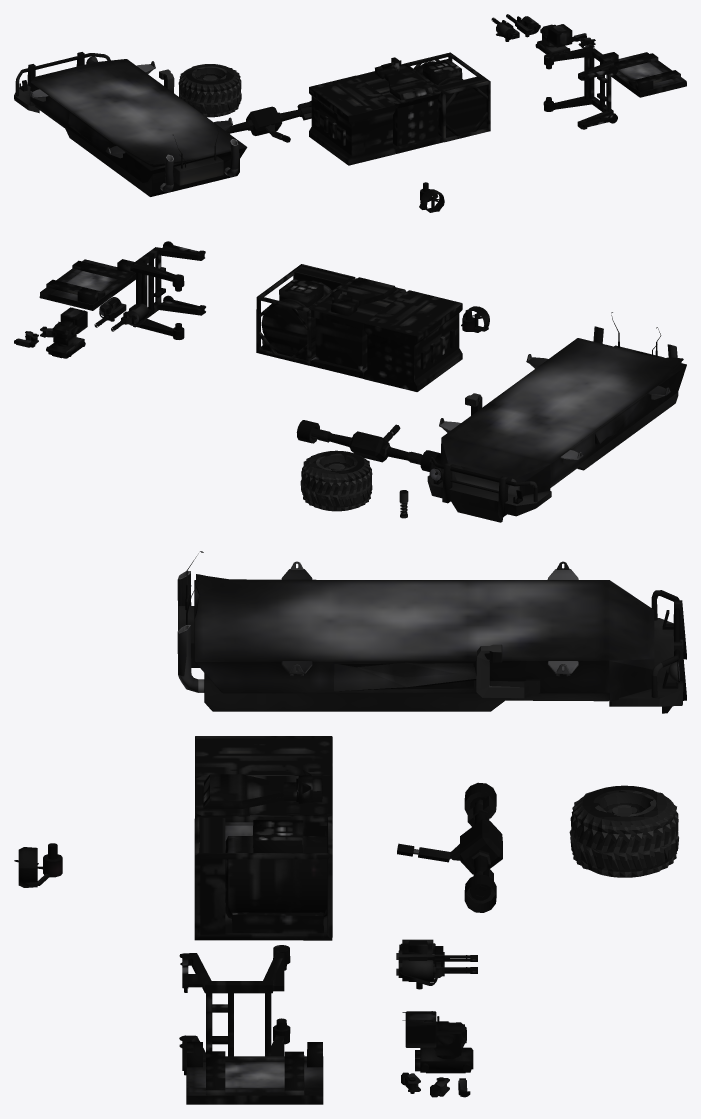
The model's file is mule_broken.fbx.
The picture shows the model from 3 angles, top to bottom: view 1: azimuth 30°, elevation 25°; view 2: azimuth 150°, elevation 25°; view 3: azimuth 270°, elevation 25°; orthographic projection. The views are drawn at different scales.
Visible parts, largest first — view 1: mule_broken, mule_broken_missile_box, mule_broken_fuel_tank, mule_broken_ammo_box, mule_broken_driod_davit, mule_broken_tyre, mule_broken_driod_davit_base, mule_broken_axle, mule_broken_ammo_box_b, mule_broken_box, mule_broken_bumper, mule_broken_fuel_tank_b (+4 smaller); view 2: mule_broken, mule_broken_missile_box, mule_broken_fuel_tank, mule_broken_ammo_box, mule_broken_tyre, mule_broken_bumper, mule_broken_driod_davit, mule_broken_driod_davit_base, mule_broken_axle, mule_broken_ammo_box_b, deployable_droid_broken, mule_broken_fuel_tank_b (+4 smaller); view 3: mule_broken, mule_broken_fuel_tank, mule_broken_tyre, mule_broken_driod_davit_base, mule_broken_missile_box, mule_broken_driod_davit, mule_broken_axle, mule_broken_bumper, mule_broken_ammo_box_b, mule_broken_ammo_box, deployable_droid_broken, mule_broken_fuel_tank_b (+4 smaller).
Boxes of the visible parts, bbox=[...] form: mule_broken: bbox=[28, 59, 247, 196]; mule_broken_missile_box: bbox=[309, 75, 395, 165]; mule_broken_fuel_tank: bbox=[404, 52, 490, 142]; mule_broken_ammo_box: bbox=[356, 64, 442, 153]; mule_broken_driod_davit: bbox=[543, 47, 617, 129]; mule_broken_tyre: bbox=[178, 64, 241, 117]; mule_broken_driod_davit_base: bbox=[603, 52, 686, 97]; mule_broken_axle: bbox=[226, 100, 311, 142]; mule_broken_ammo_box_b: bbox=[375, 57, 432, 100]; mule_broken_box: bbox=[173, 122, 223, 185]; mule_broken_bumper: bbox=[14, 52, 110, 113]; mule_broken_fuel_tank_b: bbox=[423, 59, 462, 85]; mule_broken: bbox=[439, 326, 686, 496]; mule_broken_missile_box: bbox=[364, 290, 462, 391]; mule_broken_fuel_tank: bbox=[256, 264, 355, 365]; mule_broken_ammo_box: bbox=[310, 278, 406, 378]; mule_broken_tyre: bbox=[300, 450, 372, 511]; mule_broken_bumper: bbox=[427, 457, 551, 522]; mule_broken_driod_davit: bbox=[130, 241, 205, 339]; mule_broken_driod_davit_base: bbox=[39, 259, 135, 310]; mule_broken_axle: bbox=[296, 420, 440, 471]; mule_broken_ammo_box_b: bbox=[329, 277, 396, 316]; deployable_droid_broken: bbox=[51, 307, 87, 346]; mule_broken_fuel_tank_b: bbox=[279, 277, 323, 307]; mule_broken: bbox=[177, 561, 654, 711]; mule_broken_fuel_tank: bbox=[194, 815, 332, 940]; mule_broken_tyre: bbox=[569, 785, 678, 877]; mule_broken_driod_davit_base: bbox=[186, 1042, 323, 1104]; mule_broken_missile_box: bbox=[195, 736, 332, 835]; mule_broken_driod_davit: bbox=[179, 945, 290, 1075]; mule_broken_axle: bbox=[397, 782, 502, 912]; mule_broken_bumper: bbox=[609, 590, 686, 713]; mule_broken_ammo_box_b: bbox=[203, 770, 322, 808]; mule_broken_ammo_box: bbox=[195, 776, 332, 895]; deployable_droid_broken: bbox=[402, 1011, 466, 1058]; mule_broken_fuel_tank_b: bbox=[252, 820, 303, 852].
Bounding box in the file's own units: 509 × 103 × 315.
2 materials, 2 textured.
